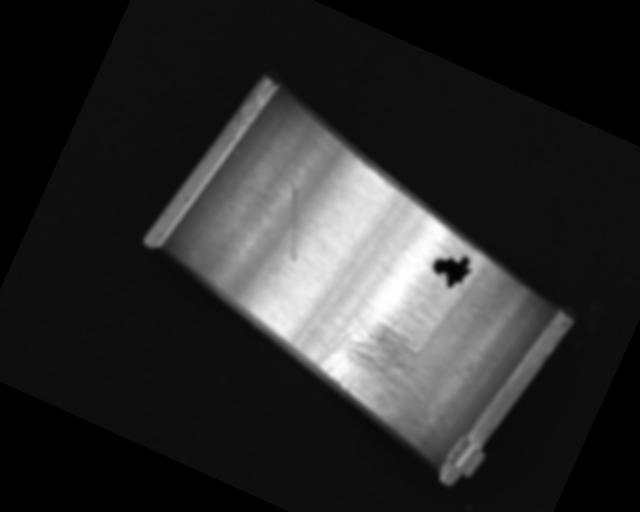blot: (426, 243, 477, 294)
nick: (324, 178, 400, 307), (261, 179, 326, 264)
scratch: (302, 293, 459, 444)
